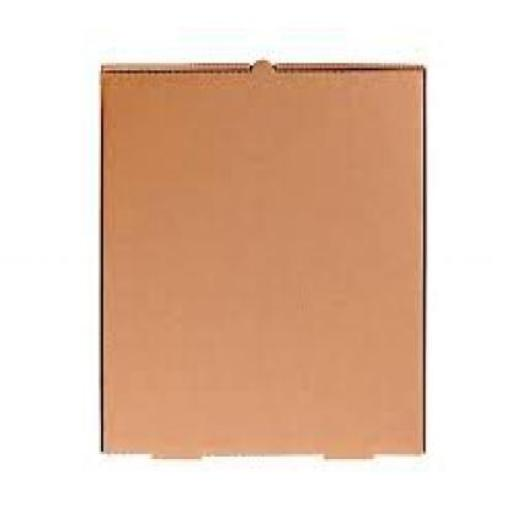cardboard: (99, 68, 429, 462)
